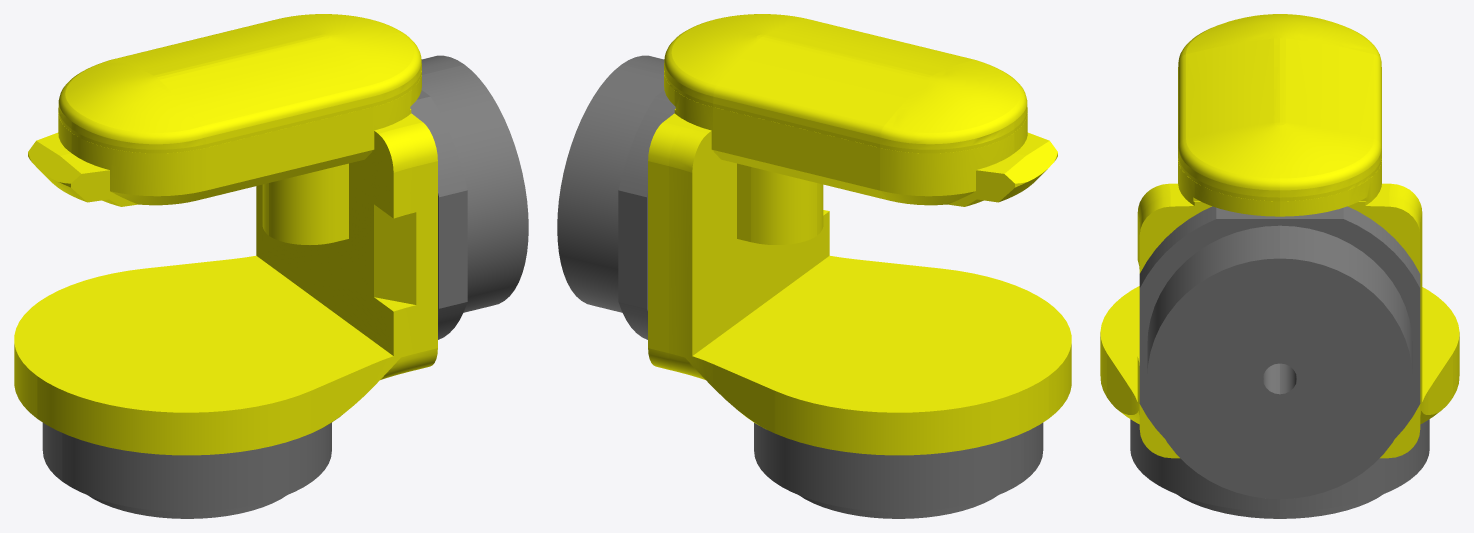
3 renders of one model, left to right at view 1: azimuth 30°, elevation 25°; view 2: azimuth 150°, elevation 25°; view 3: azimuth 270°, elevation 25°, orthographic. The views are drawn at different scales.
Visible parts, largest first — view 1: Mesh_0; view 2: Mesh_0; view 3: Mesh_0.
Boxes of the visible parts, left/top/right/bottom form: Mesh_0: left=14, top=14, right=528, bottom=518; Mesh_0: left=557, top=14, right=1071, bottom=518; Mesh_0: left=1100, top=14, right=1459, bottom=518.
Size of the model in its own units: 0.2407 by 0.215 by 0.169.
